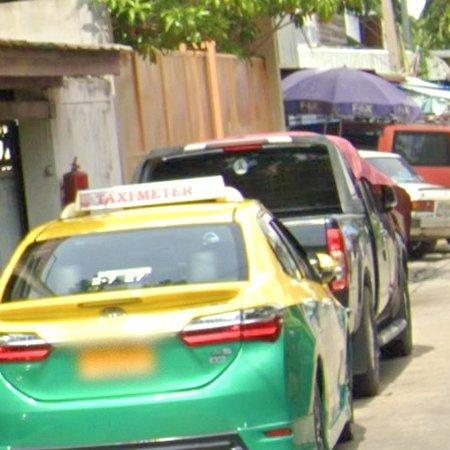taxis: (0, 177, 352, 450)
